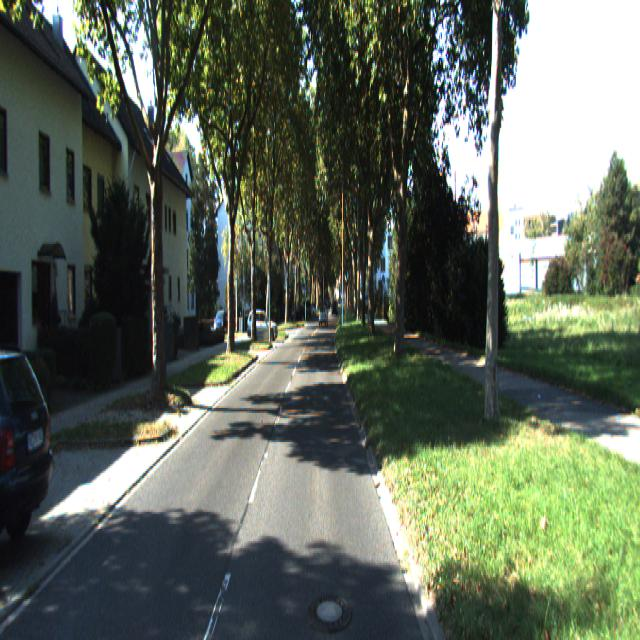Car: (0, 328, 65, 570), (246, 311, 278, 344)
